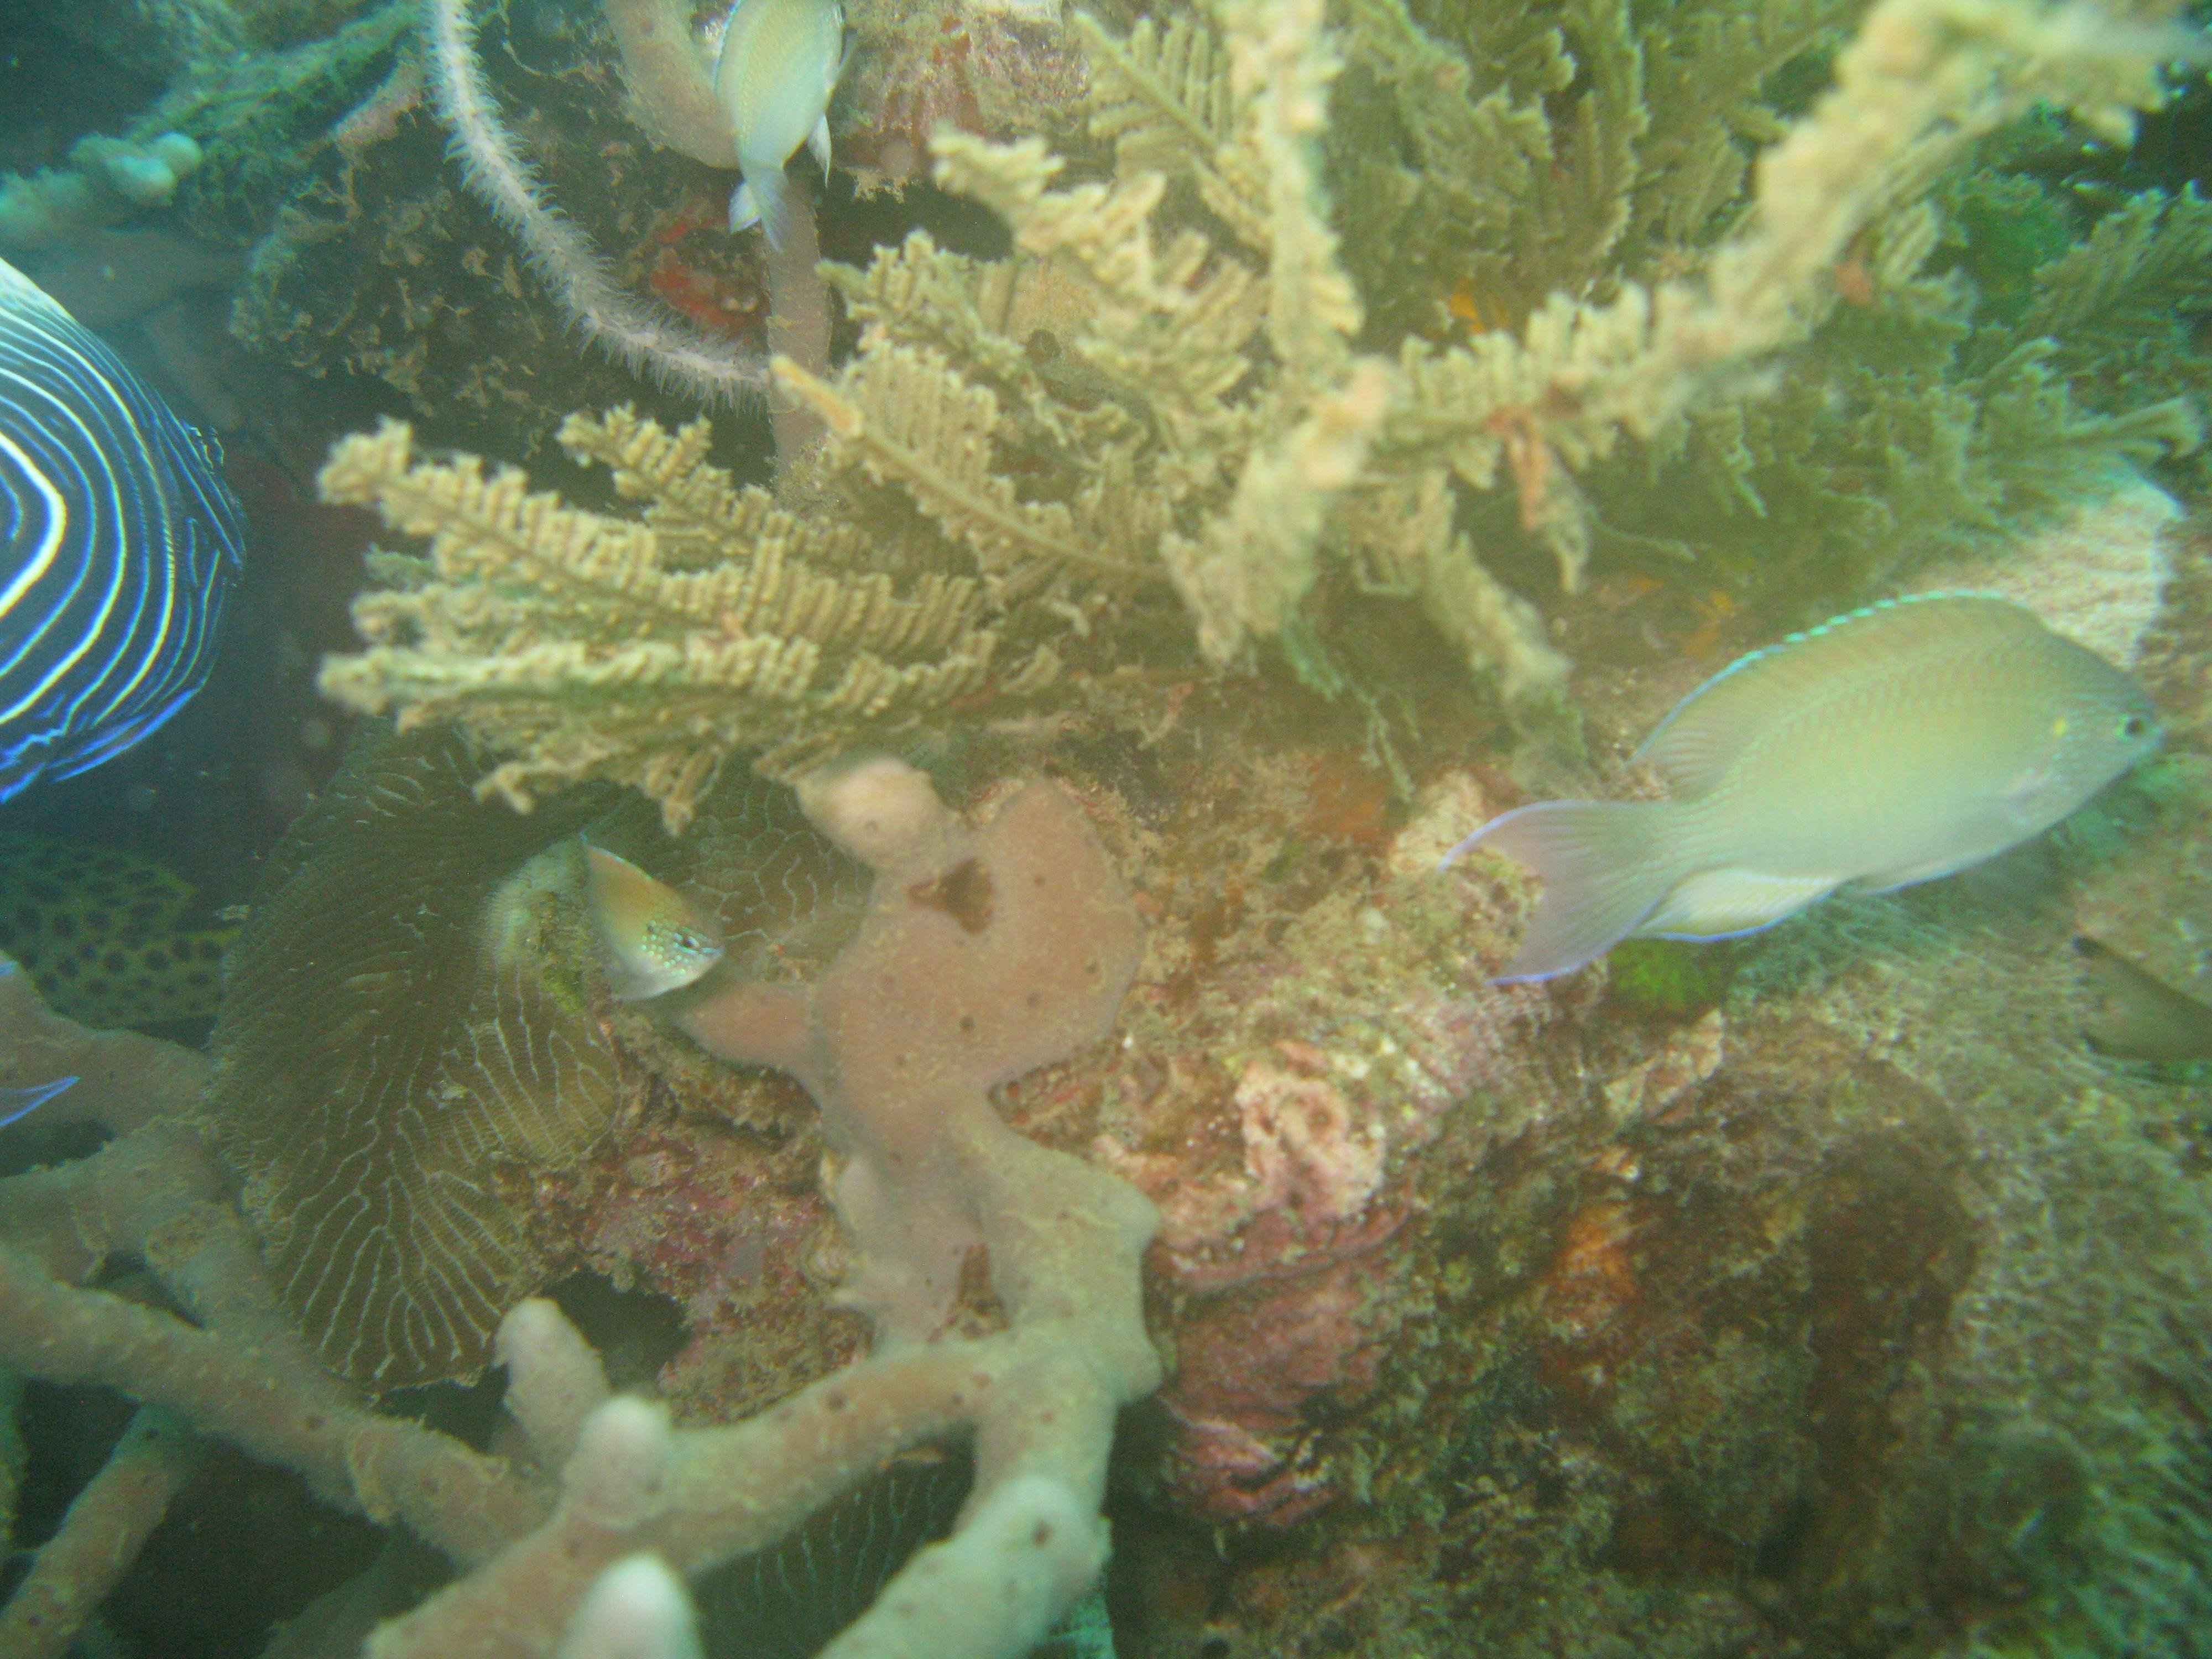Pomacentrus pavo: (1371, 556, 2189, 1046)
